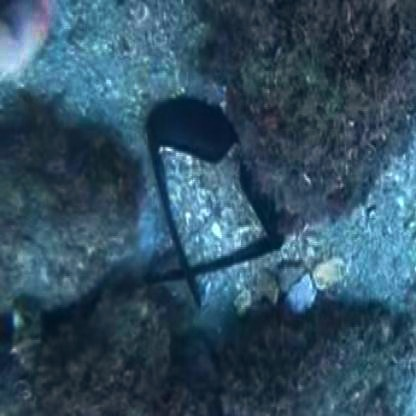sunglasses: (129, 76, 269, 280)
